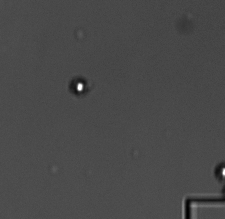Living Cell: (69, 75, 92, 96)
